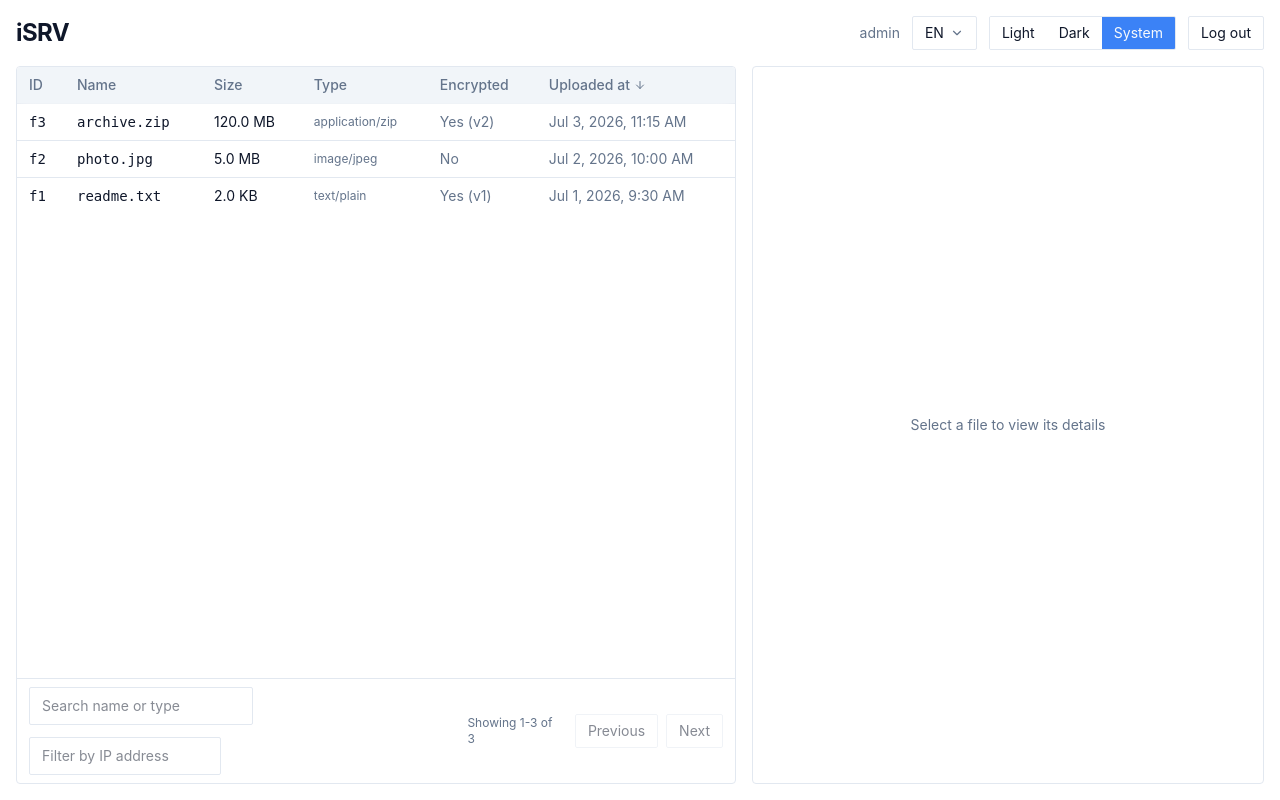
Test case: admin files dashboard › shows the empty state when nothing matches
Expected: the text "readme.txt" is shown, x1=77 y1=188 x2=161 y2=204
In the field with placeholder "Search name or type": (141, 706) x1=29 y1=687 x2=253 y2=725, type "does-not-exist"
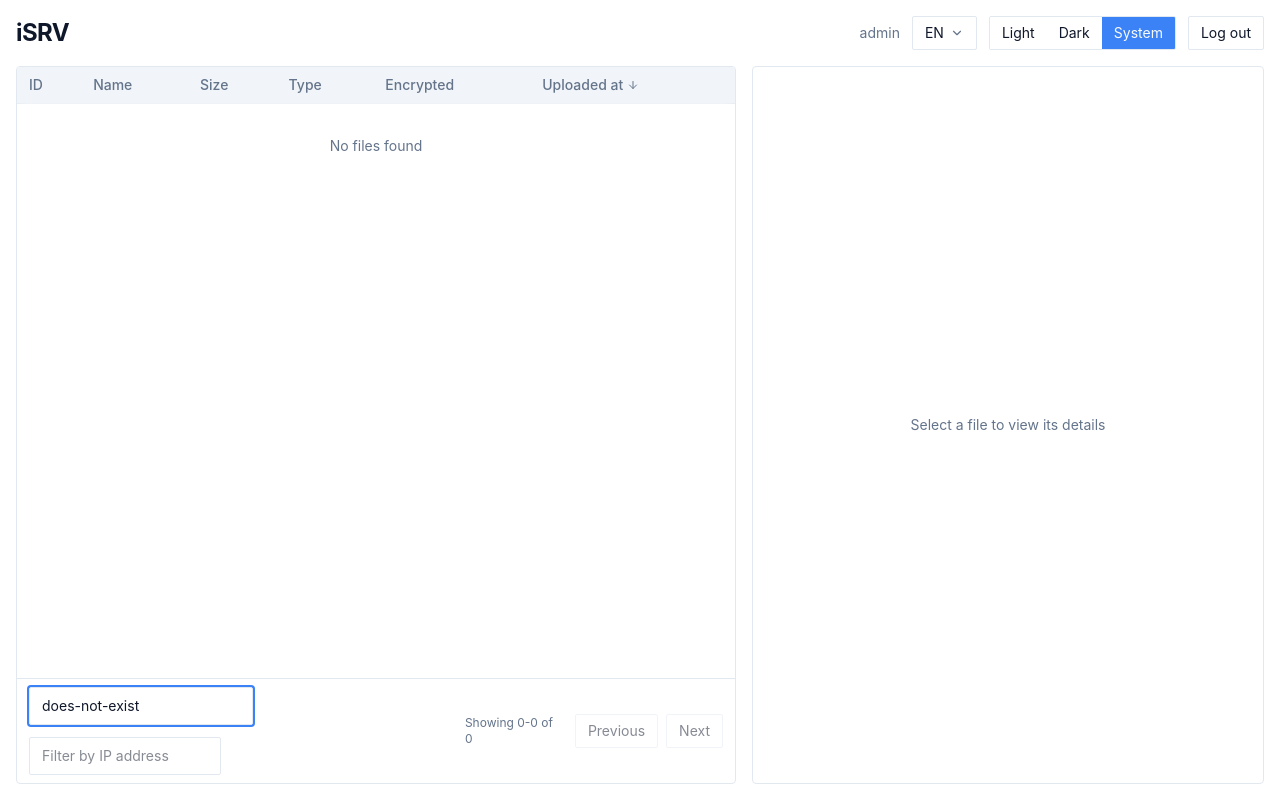
Expected: the text "No files found" is shown, x1=17 y1=104 x2=735 y2=188
Expected: the text "Showing 0-0 of 0" is shown, x1=465 y1=715 x2=563 y2=747
